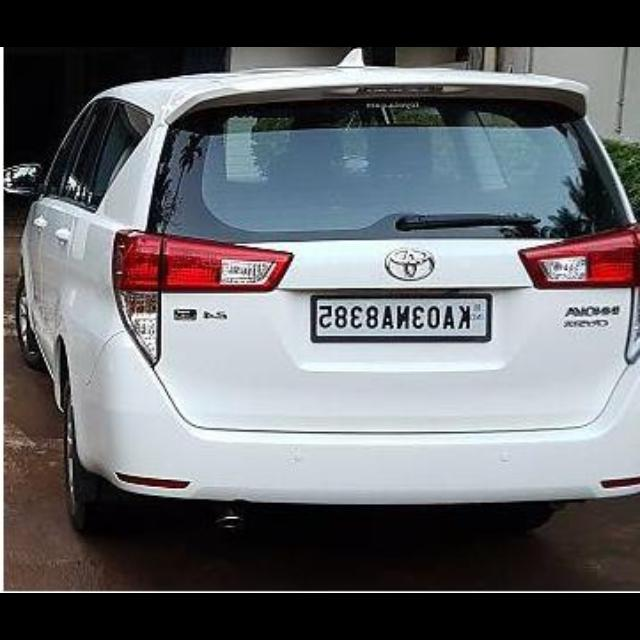number-plate: (302, 291, 492, 348)
vehicles: (16, 72, 640, 557)
